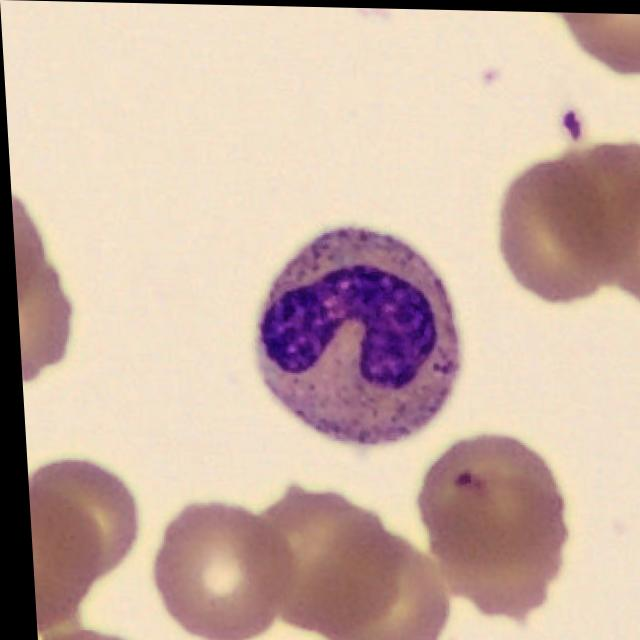Bastonete: (250, 226, 456, 446)
